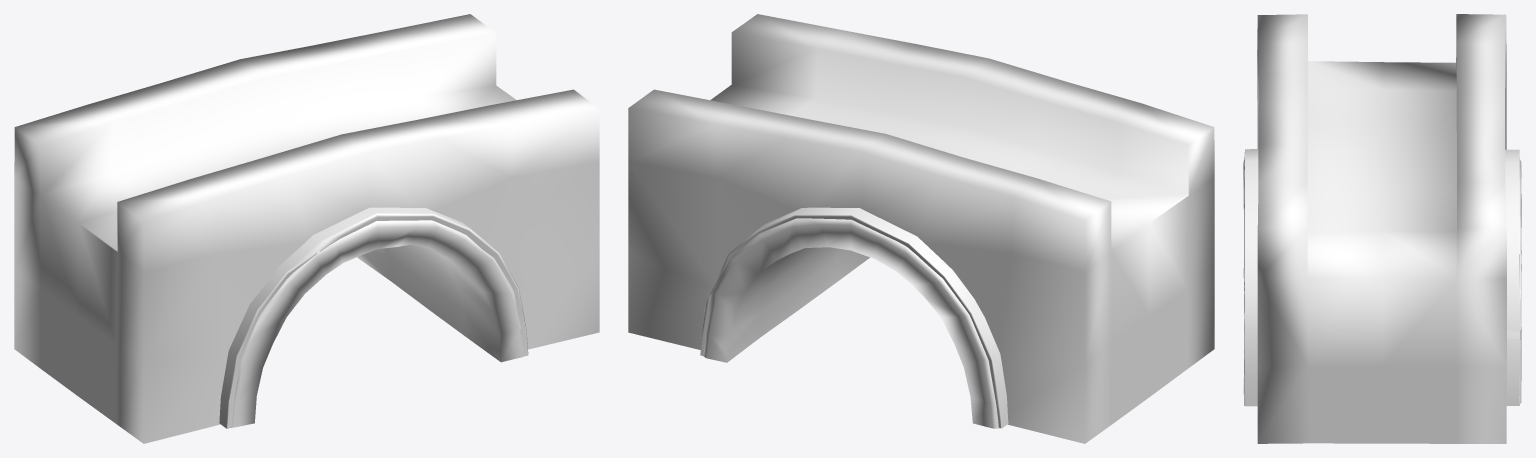
Rendered from Stone_Bridge.fbx.
3 renders of one model, left to right at view 1: azimuth 30°, elevation 25°; view 2: azimuth 150°, elevation 25°; view 3: azimuth 270°, elevation 25°, orthographic. The views are drawn at different scales.
Parts seen in each view (by area): view 1: Mesh_0; view 2: Mesh_0; view 3: Mesh_0.
Part boxes in pixels (bbox=[...]): Mesh_0: bbox=[14, 14, 599, 443]; Mesh_0: bbox=[628, 14, 1214, 443]; Mesh_0: bbox=[1243, 14, 1521, 443].
Bounding box in the file's own units: 100 × 49.54 × 54.81.
Materials: 1 (1 with a texture image).
